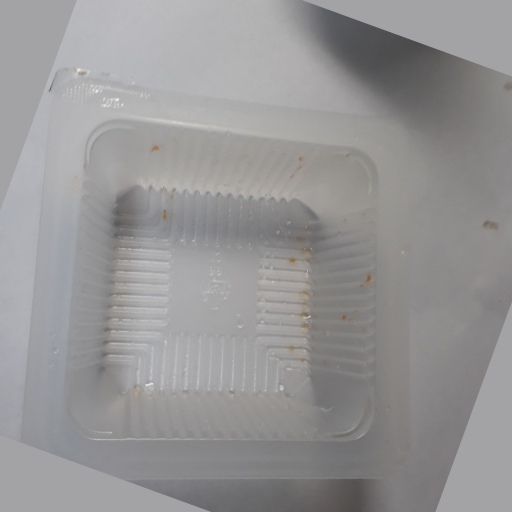Plastic_4: (20, 66, 410, 483)
